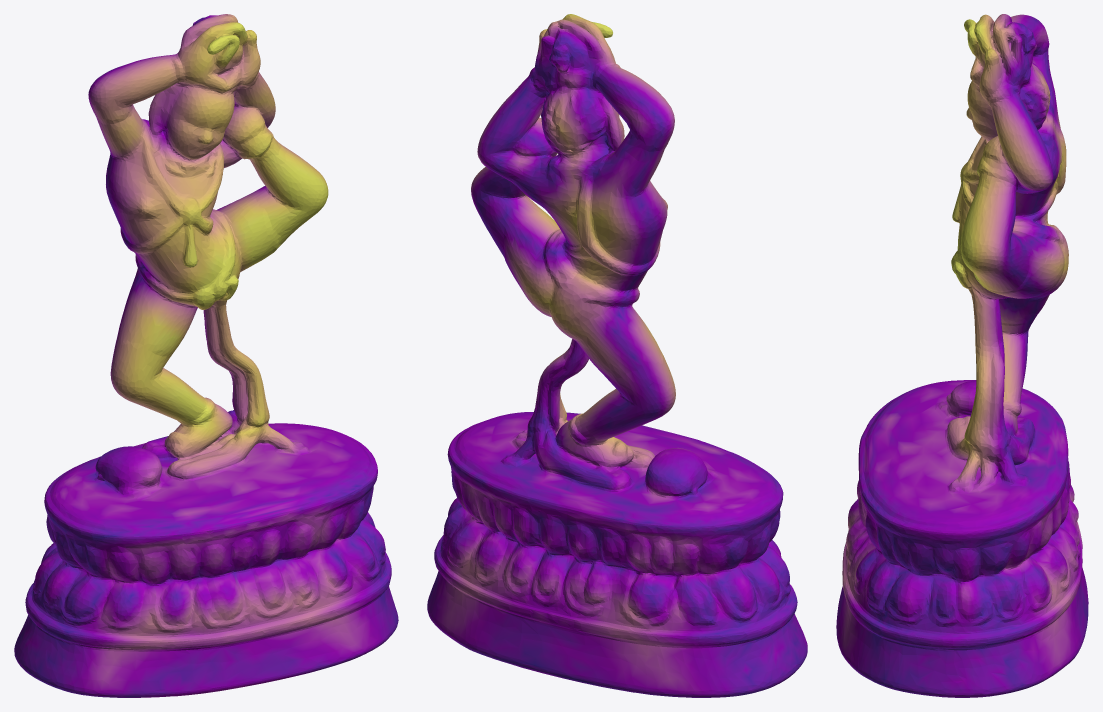
Rendered from iter_18.glb.
3 views of the same model, side by side, from view 1: azimuth 30°, elevation 25°; view 2: azimuth 150°, elevation 25°; view 3: azimuth 270°, elevation 25° (orthographic). The views are drawn at different scales.
Parts seen in each view (by area): view 1: textured_mesh; view 2: textured_mesh; view 3: textured_mesh.
Boxes of the visible parts, left/top/right/bottom form: textured_mesh: left=14, top=14, right=398, bottom=697; textured_mesh: left=427, top=14, right=807, bottom=697; textured_mesh: left=836, top=14, right=1088, bottom=697.
Size of the model in its own units: 1.2 by 1.99 by 0.7448.
